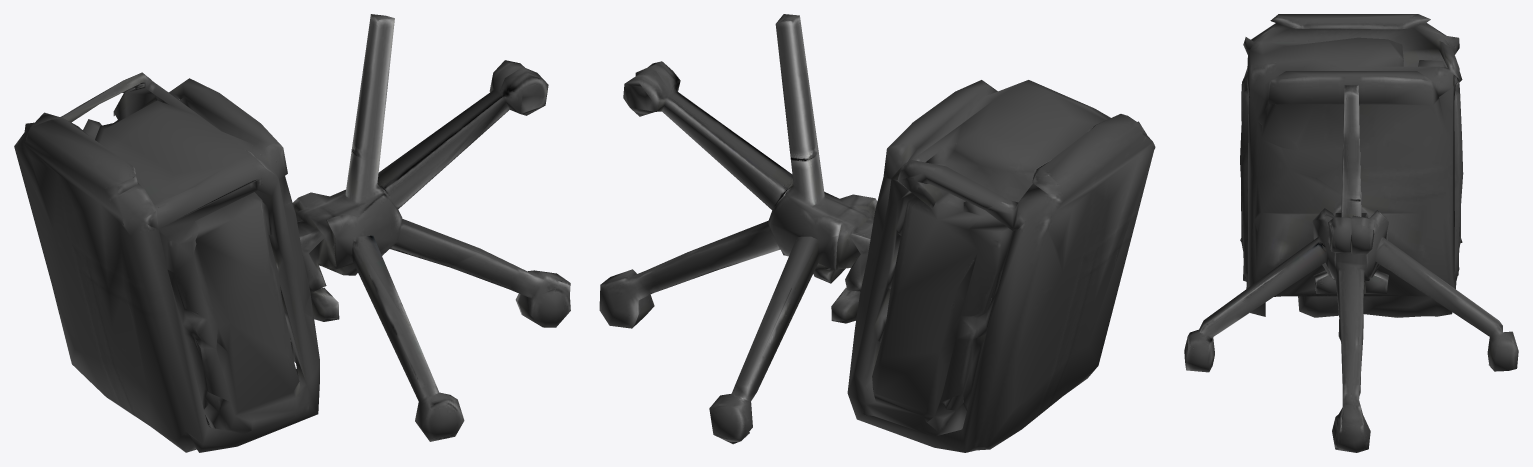
Rendered from office_chair_tipped.glb.
3 views of the same model, side by side, from view 1: azimuth 30°, elevation 25°; view 2: azimuth 150°, elevation 25°; view 3: azimuth 270°, elevation 25° (orthographic). The views are drawn at different scales.
Visible parts, largest first — view 1: Model; view 2: Model; view 3: Model.
Part boxes in pixels (<box>): Model: <box>14,14,570,452</box>; Model: <box>599,14,1155,452</box>; Model: <box>1184,14,1518,452</box>.
Bounding box in the file's own units: 1.1 × 0.7343 × 0.75.
1 material, 1 textured.
